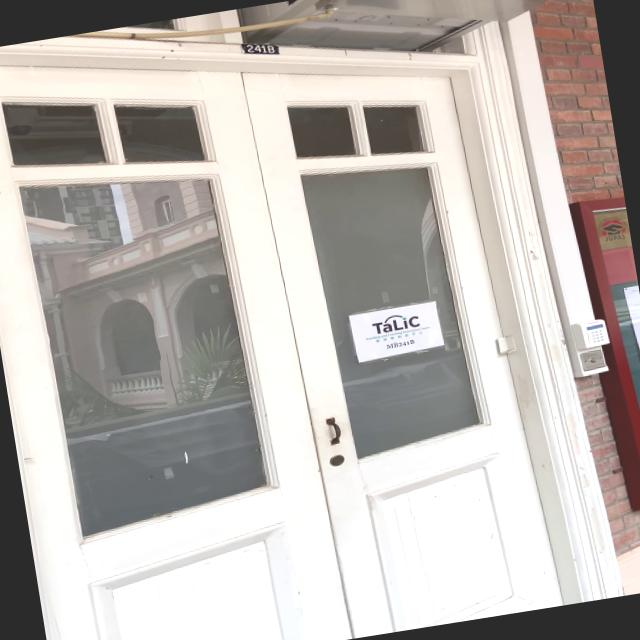room241b: (237, 35, 282, 62)
